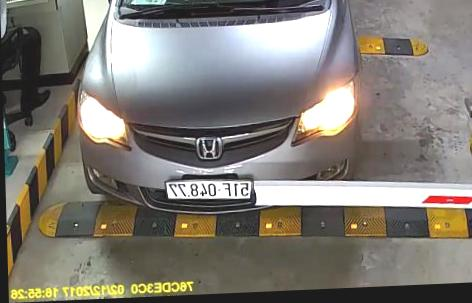License_Plate: (164, 175, 252, 205)
